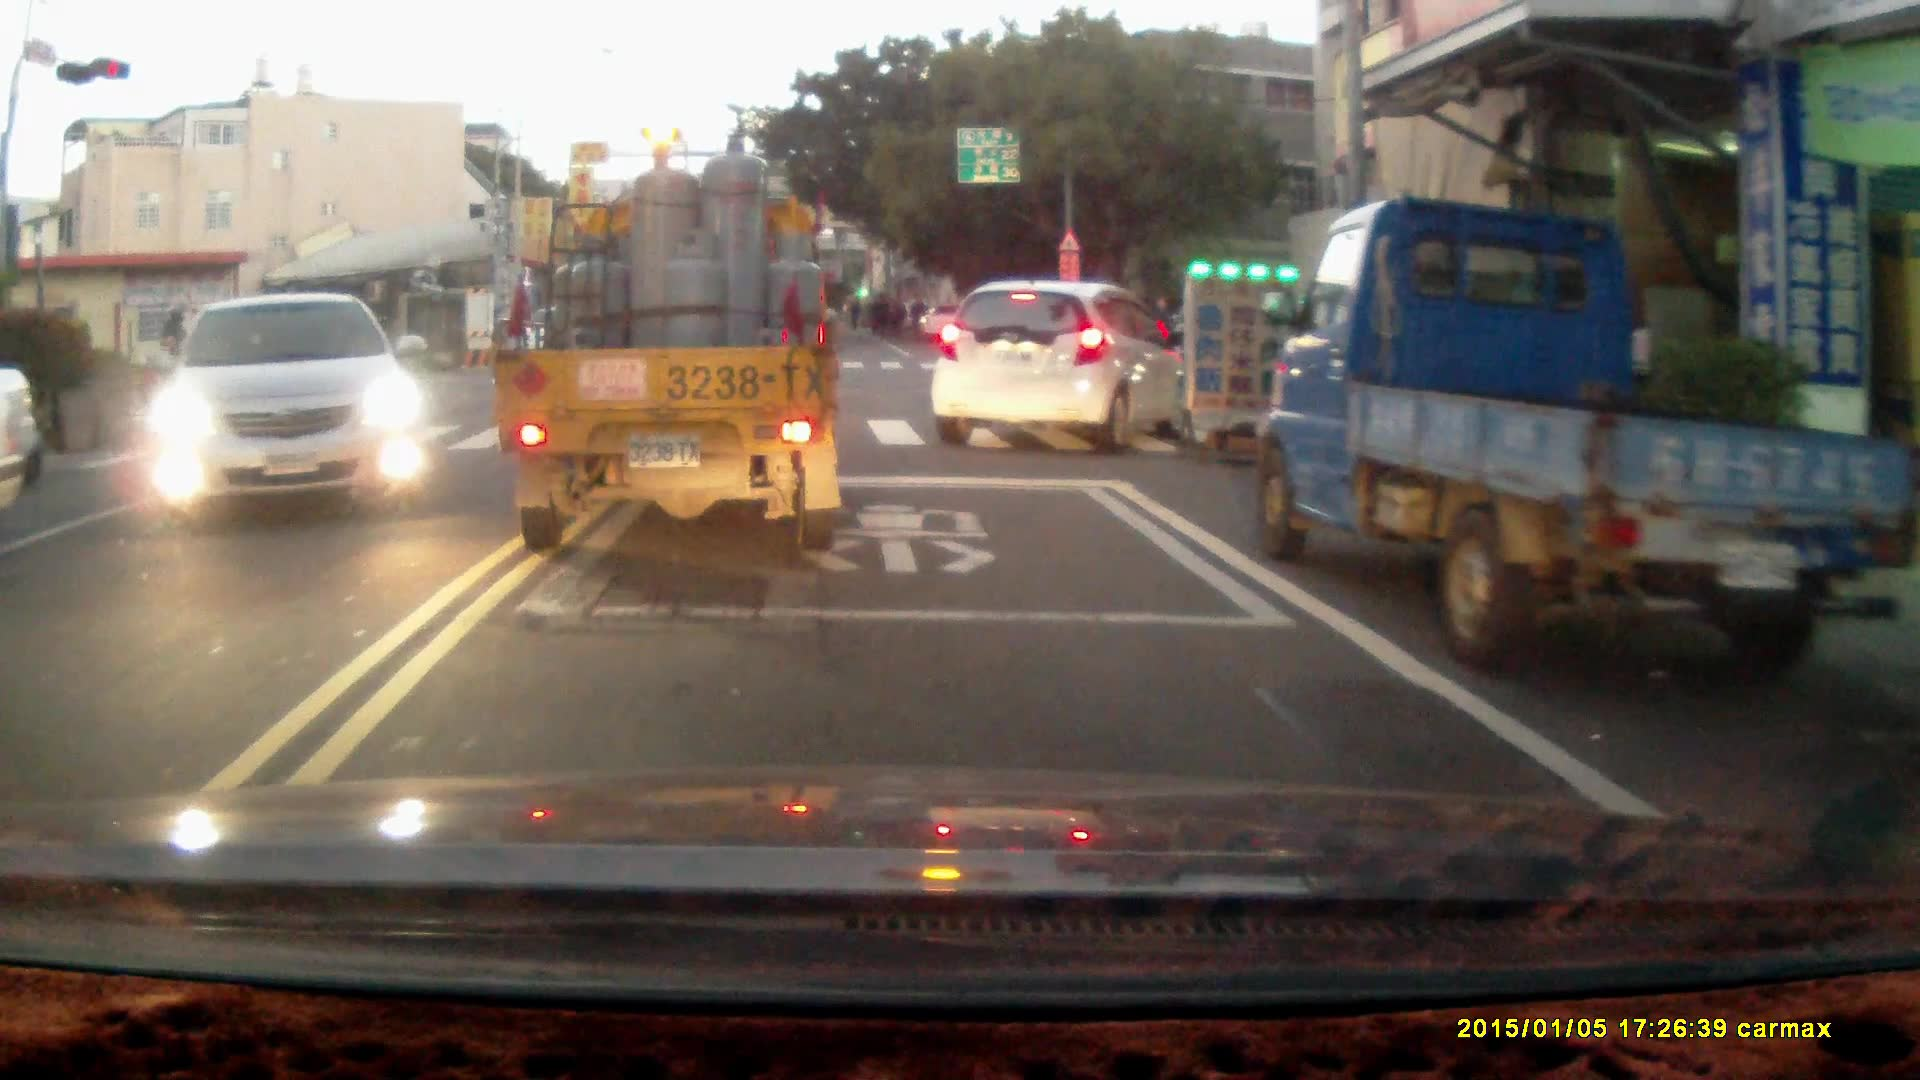vehicle: (1258, 189, 1896, 669), (505, 135, 849, 558), (150, 291, 434, 526), (927, 280, 1192, 460), (1, 355, 51, 524)
